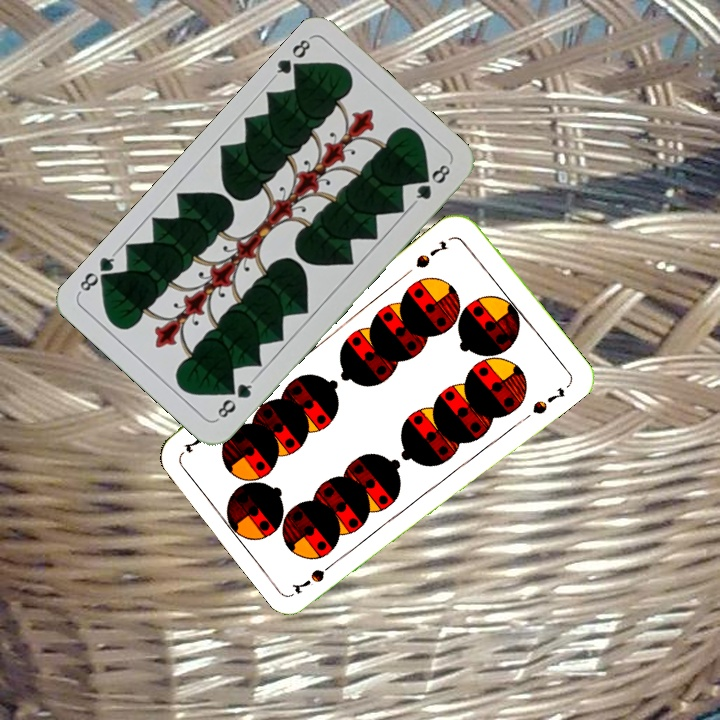G8: (212, 375, 257, 423), (269, 33, 313, 81)
S7: (290, 554, 341, 597), (412, 236, 451, 271)
